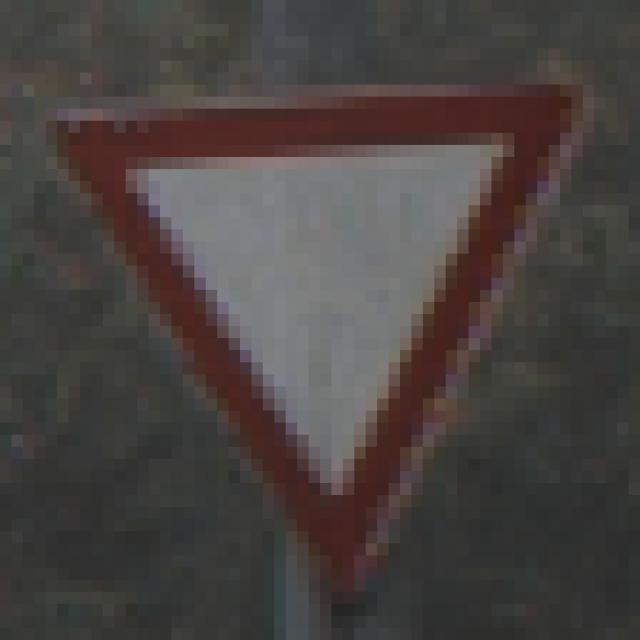Give Way: (58, 74, 584, 581)
